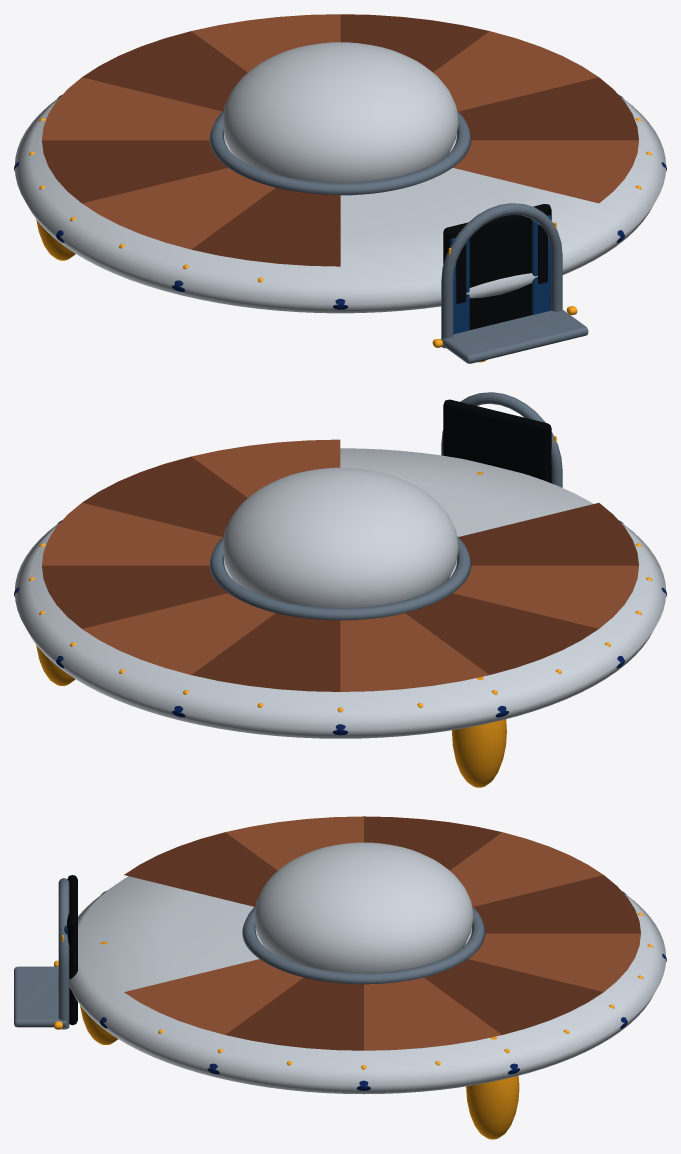
Rendered from freezer_station.obj.
The picture shows the model from 3 angles, top to bottom: view 1: azimuth 30°, elevation 25°; view 2: azimuth 150°, elevation 25°; view 3: azimuth 270°, elevation 25°; orthographic projection. The views are drawn at different scales.
Parts seen in each view (by area): view 1: station_disc_white_hull, central_white_cupola, deck_panel_07, deck_panel_06, deck_panel_05, deck_panel_10, deck_panel_04, deck_panel_11, deck_panel_00, deck_panel_03, hangar_deep_recess, deck_panel_02 (+9 smaller); view 2: station_disc_white_hull, central_white_cupola, deck_panel_01, deck_panel_06, deck_panel_03, deck_panel_04, deck_panel_02, deck_panel_05, deck_panel_00, deck_panel_07, deck_panel_11, hangar_deep_recess (+5 smaller); view 3: station_disc_white_hull, central_white_cupola, deck_panel_02, deck_panel_10, deck_panel_01, deck_panel_11, deck_panel_00, deck_panel_03, deck_panel_04, deck_panel_07, deck_panel_06, deck_panel_05 (+6 smaller).
Boxes of the visible parts, left/top/right/bottom form: station_disc_white_hull: left=15, top=96, right=665, bottom=313; central_white_cupola: left=222, top=42, right=458, bottom=182; deck_panel_07: left=191, top=187, right=340, bottom=266; deck_panel_06: left=82, top=168, right=275, bottom=249; deck_panel_05: left=42, top=140, right=227, bottom=203; deck_panel_10: left=453, top=140, right=638, bottom=203; deck_panel_04: left=42, top=77, right=222, bottom=140; deck_panel_11: left=458, top=77, right=638, bottom=140; deck_panel_00: left=433, top=31, right=598, bottom=111; deck_panel_03: left=82, top=31, right=247, bottom=111; hangar_deep_recess: left=443, top=204, right=551, bottom=329; deck_panel_02: left=191, top=14, right=340, bottom=72; station_disc_white_hull: left=15, top=448, right=665, bottom=738; central_white_cupola: left=222, top=467, right=458, bottom=607; deck_panel_01: left=42, top=565, right=227, bottom=628; deck_panel_06: left=453, top=565, right=638, bottom=628; deck_panel_03: left=191, top=613, right=340, bottom=691; deck_panel_04: left=340, top=613, right=489, bottom=691; deck_panel_02: left=82, top=593, right=275, bottom=674; deck_panel_05: left=405, top=593, right=598, bottom=674; deck_panel_00: left=42, top=503, right=222, bottom=565; deck_panel_07: left=458, top=503, right=638, bottom=565; deck_panel_11: left=82, top=456, right=247, bottom=536; hangar_deep_recess: left=443, top=399, right=551, bottom=483; station_disc_white_hull: left=68, top=876, right=665, bottom=1094; central_white_cupola: left=254, top=842, right=473, bottom=972; deck_panel_02: left=468, top=933, right=640, bottom=991; deck_panel_10: left=124, top=959, right=303, bottom=1034; deck_panel_01: left=424, top=959, right=603, bottom=1034; deck_panel_11: left=226, top=977, right=363, bottom=1050; deck_panel_00: left=364, top=977, right=501, bottom=1050; deck_panel_03: left=473, top=875, right=640, bottom=933; deck_panel_04: left=450, top=832, right=603, bottom=906; deck_panel_07: left=124, top=832, right=277, bottom=906; deck_panel_06: left=225, top=816, right=363, bottom=870; deck_panel_05: left=364, top=816, right=501, bottom=870.
Bounding box in the file's own units: 8.18 × 2.76 × 8.81.
